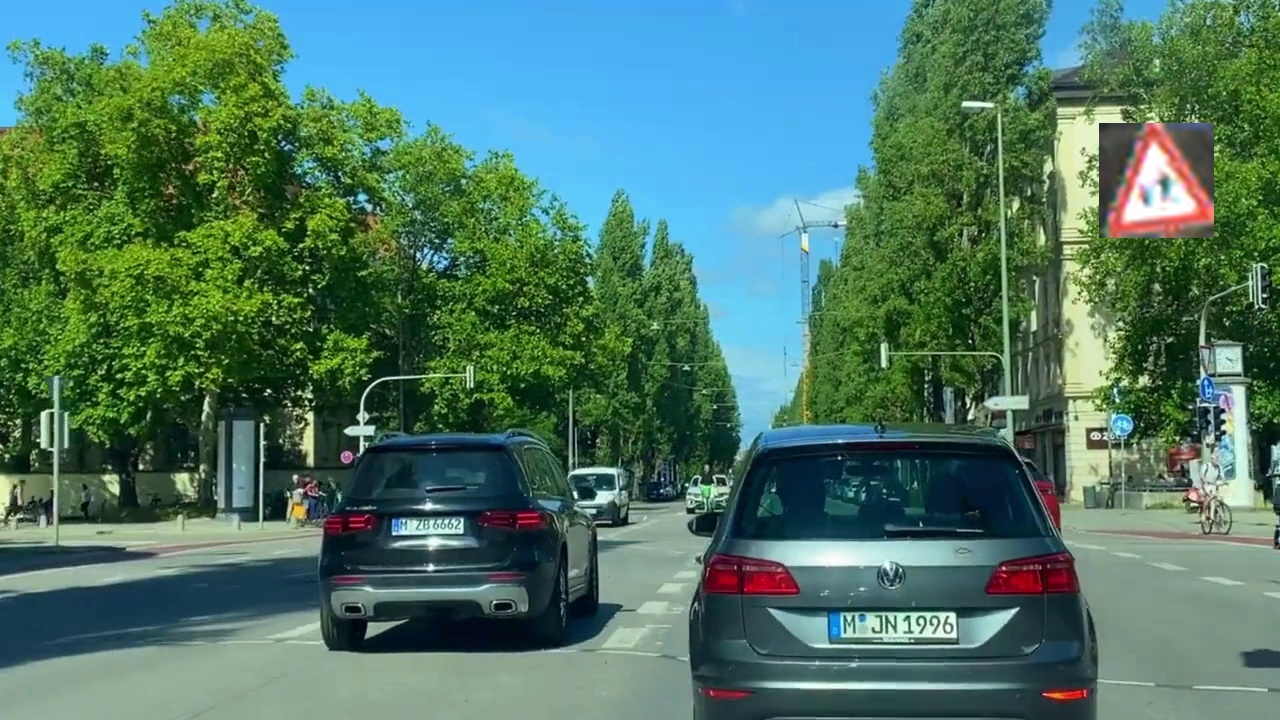Children: (1099, 123, 1214, 238)
